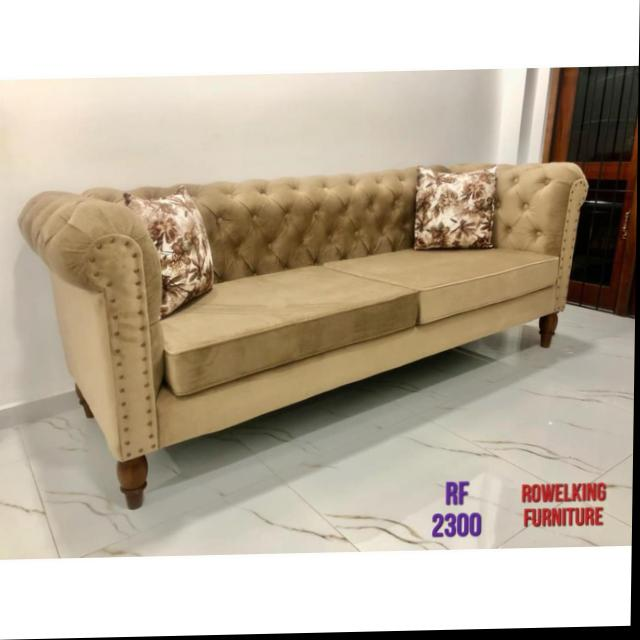Sofa: (16, 159, 586, 497)
